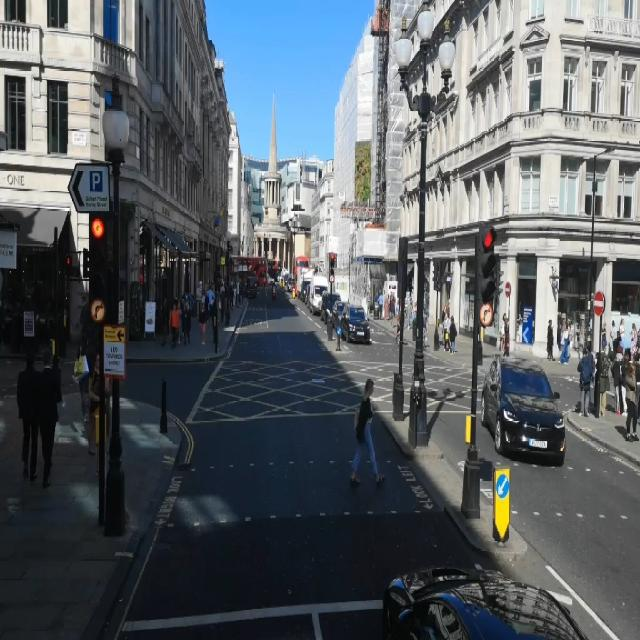pedestrian: (350, 379, 383, 484)
